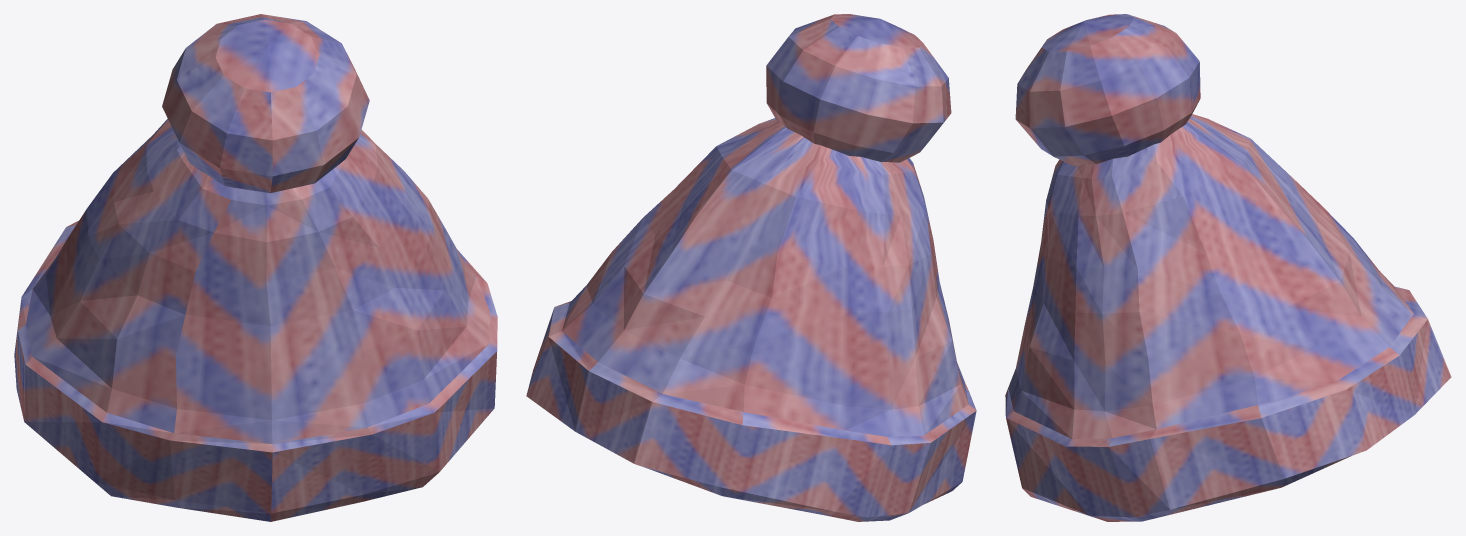
The model's file is STRIPE POMPOM HAT.fbx.
3 renders of one model, left to right at view 1: azimuth 30°, elevation 25°; view 2: azimuth 150°, elevation 25°; view 3: azimuth 270°, elevation 25°, orthographic. The views are drawn at different scales.
Parts seen in each view (by area): view 1: STRIPE_POMPOM_HAT; view 2: STRIPE_POMPOM_HAT; view 3: STRIPE_POMPOM_HAT.
Boxes of the visible parts, x1,y1,x2,y2 form: STRIPE_POMPOM_HAT: (14, 14, 497, 521); STRIPE_POMPOM_HAT: (526, 14, 976, 521); STRIPE_POMPOM_HAT: (1005, 14, 1451, 521).
Size of the model in its own units: 31.38 by 33.13 by 31.25.
